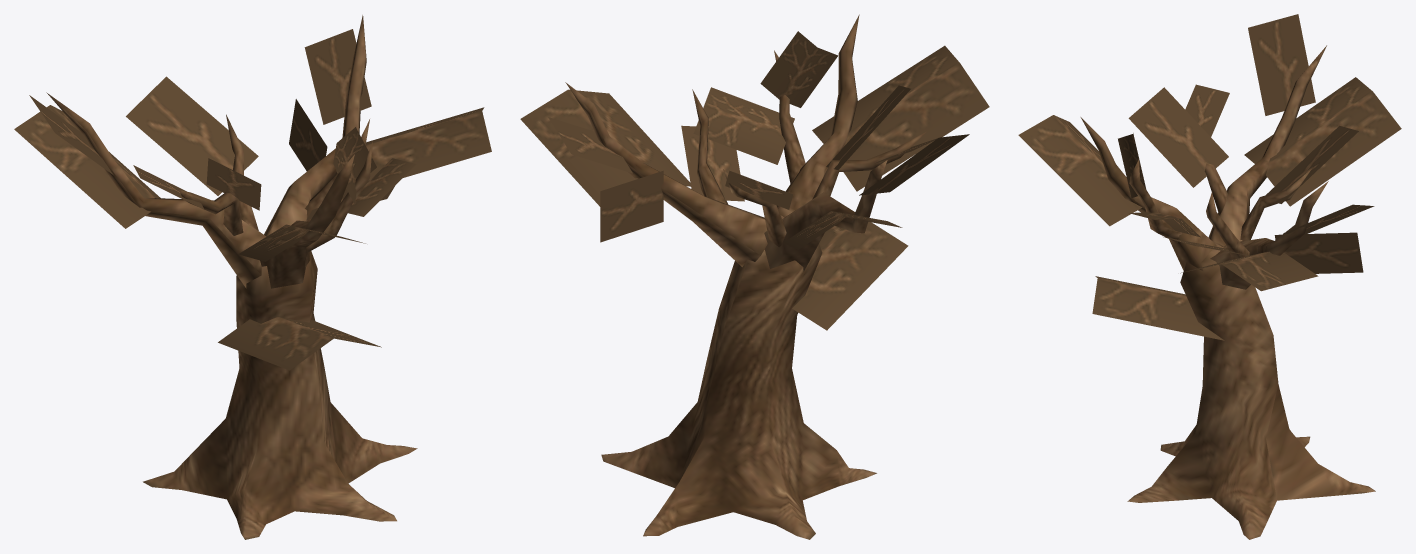
The model's file is e_tree_2.FBX.
3 views of the same model, side by side, from view 1: azimuth 30°, elevation 25°; view 2: azimuth 150°, elevation 25°; view 3: azimuth 270°, elevation 25° (orthographic). The views are drawn at different scales.
Visible parts, largest first — view 1: Cylinder005; view 2: Cylinder005; view 3: Cylinder005.
Part boxes in pixels (x1,y1,x2,y2): Cylinder005: (14,15,491,539); Cylinder005: (520,14,989,539); Cylinder005: (1018,14,1401,539).
Bounding box in the file's own units: 120 × 104 × 111.
